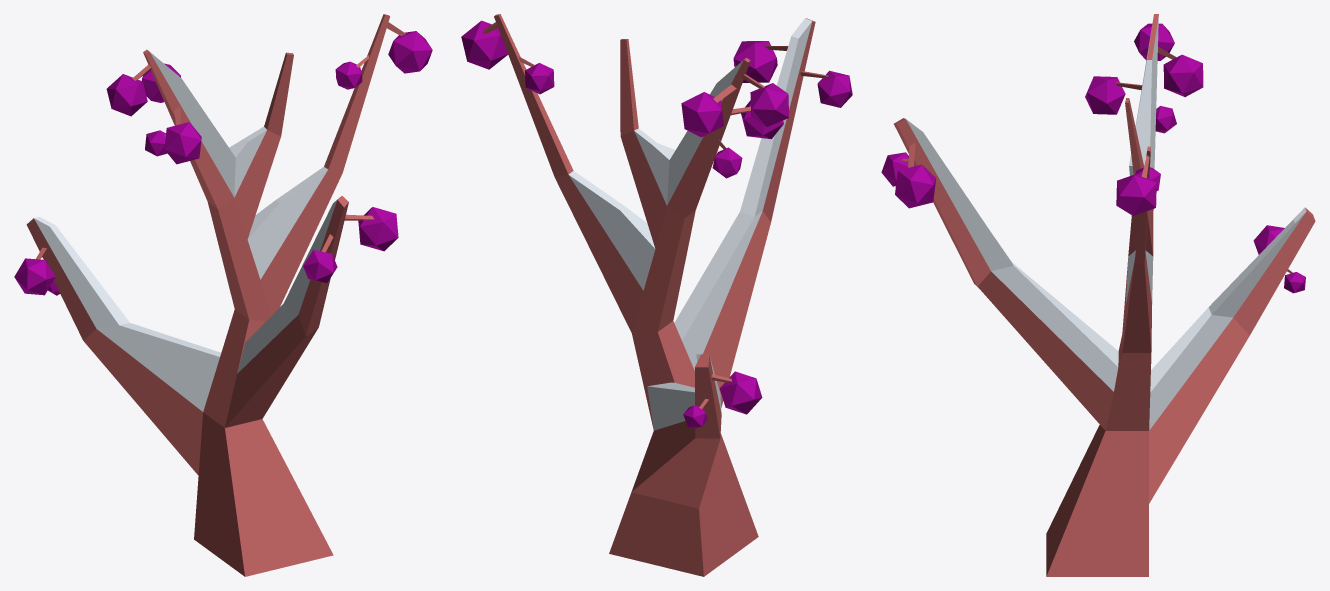
Rendered from BushWinter2_Alt4.fbx.
The picture shows the model from 3 angles, left to right: view 1: azimuth 30°, elevation 25°; view 2: azimuth 150°, elevation 25°; view 3: azimuth 270°, elevation 25°; orthographic projection. The views are drawn at different scales.
Visible parts, largest first — view 1: BushWinter2_Alt4; view 2: BushWinter2_Alt4; view 3: BushWinter2_Alt4.
Boxes of the visible parts, x1,y1,x2,y2 form: BushWinter2_Alt4: (14, 14, 432, 576); BushWinter2_Alt4: (461, 14, 852, 576); BushWinter2_Alt4: (881, 14, 1315, 576).
Size of the model in its own units: 0.4174 by 0.5787 by 0.4566.
